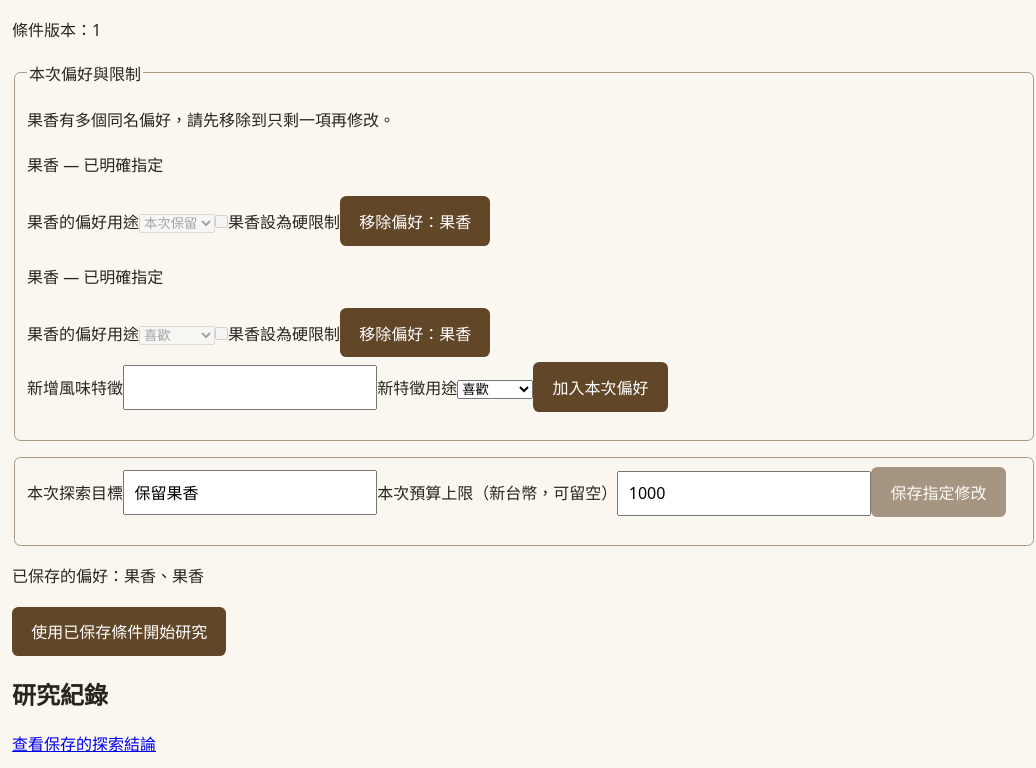
legacy duplicate descriptions require removal to one value before editing
Check: the 1st dropdown labelled "果香的偏好用途" is disabled, box [139, 214, 215, 233]
Check: the text "果香有多個同名偏好，請先移除到只剩一項再修改。" is shown, box [27, 109, 395, 131]
What coordinates should you click on to do the following:
click the 2nd button "移除偏好：果香"
I would click on:
 (415, 333)
Its box is [340, 308, 490, 357].
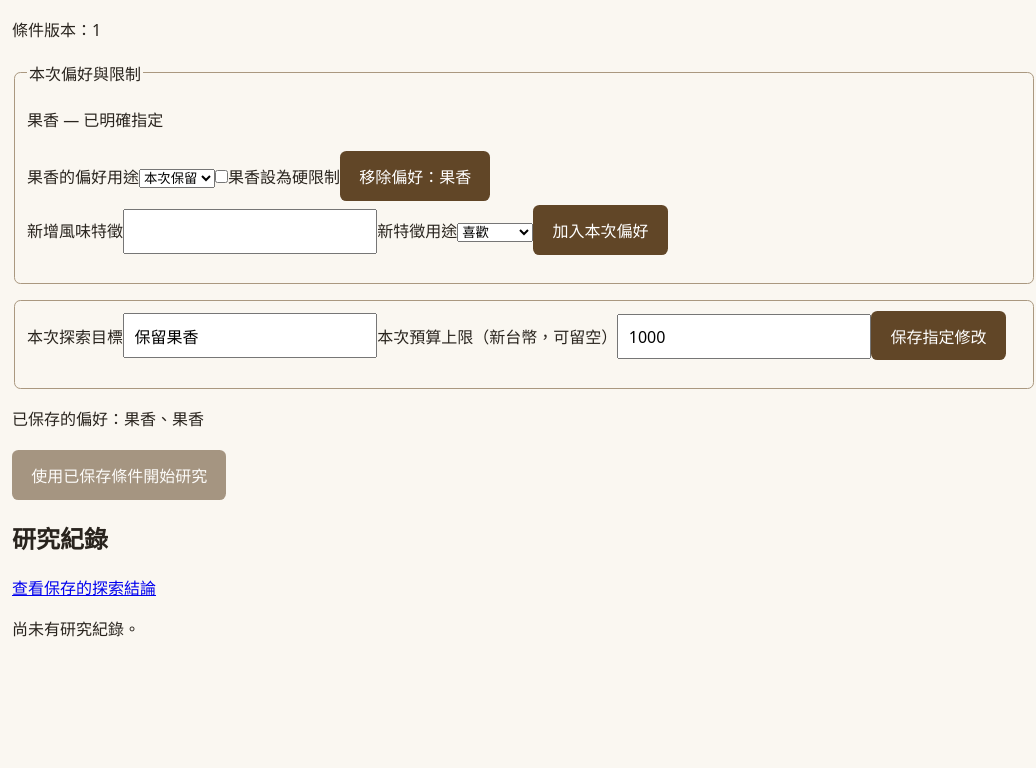
Check: the dropdown labelled "果香的偏好用途" is enabled, box [139, 169, 215, 188]
